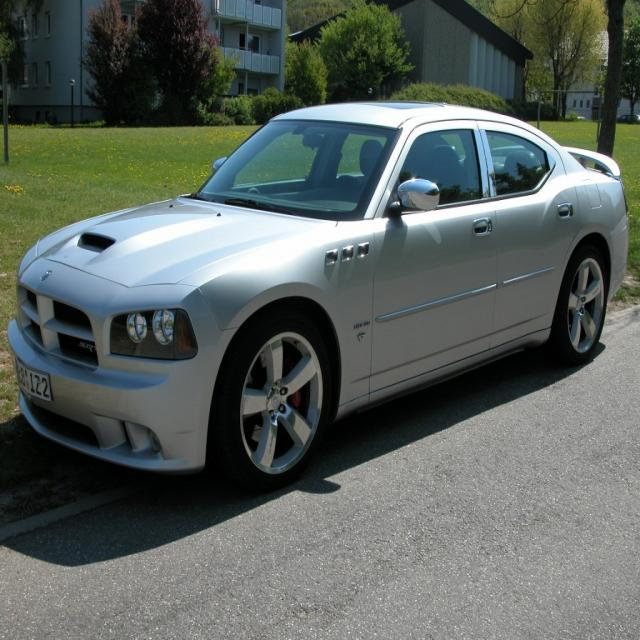car: (1, 91, 640, 485)
